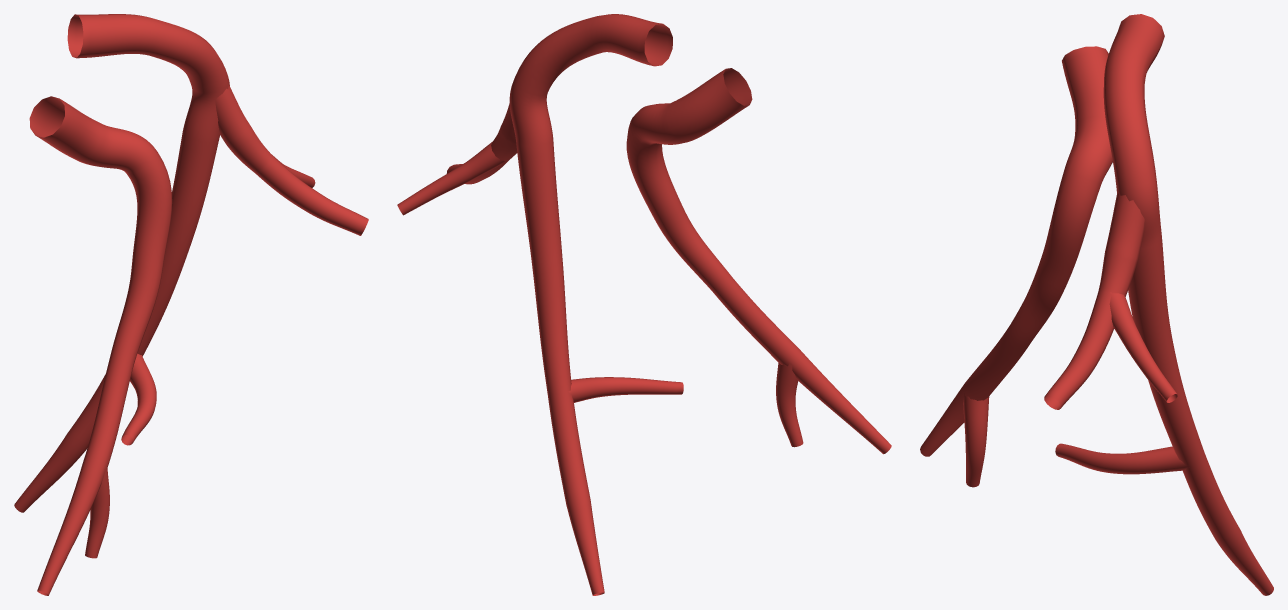
3 views of the same model, side by side, from view 1: azimuth 30°, elevation 25°; view 2: azimuth 150°, elevation 25°; view 3: azimuth 270°, elevation 25° (orthographic). The views are drawn at different scales.
Parts seen in each view (by area): view 1: 左肺前段动脉; view 2: 左肺前段动脉; view 3: 左肺前段动脉.
Boxes of the visible parts, x1,y1,x2,y2 form: 左肺前段动脉: [14, 14, 368, 595]; 左肺前段动脉: [397, 14, 891, 595]; 左肺前段动脉: [920, 14, 1273, 595].
Size of the model in its own units: 0.1049 by 0.1383 by 0.0765.
